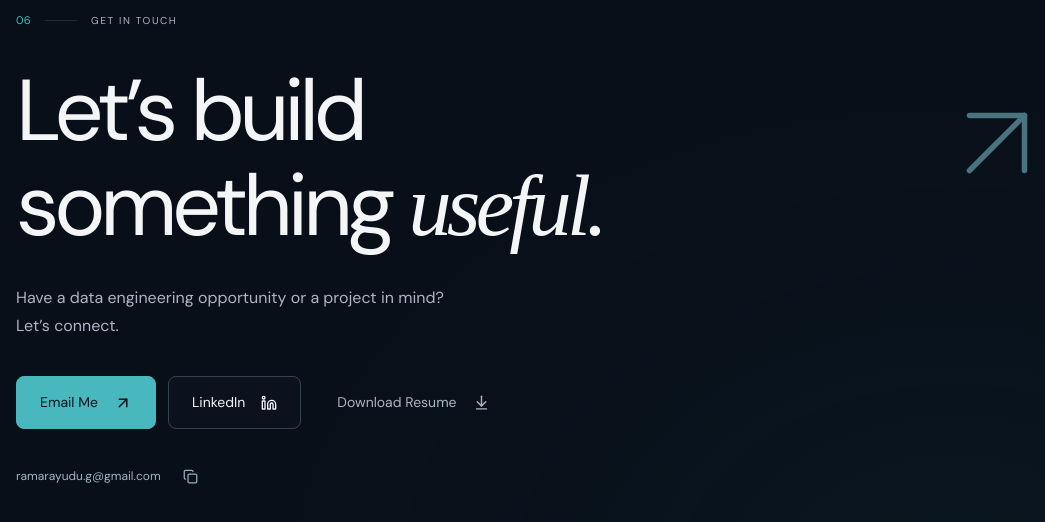
Scenario: direct contact › copies the exact email and displays a confirmed success
Click the button named "Copy email address".
click(191, 476)  # box [169,454,213,498]
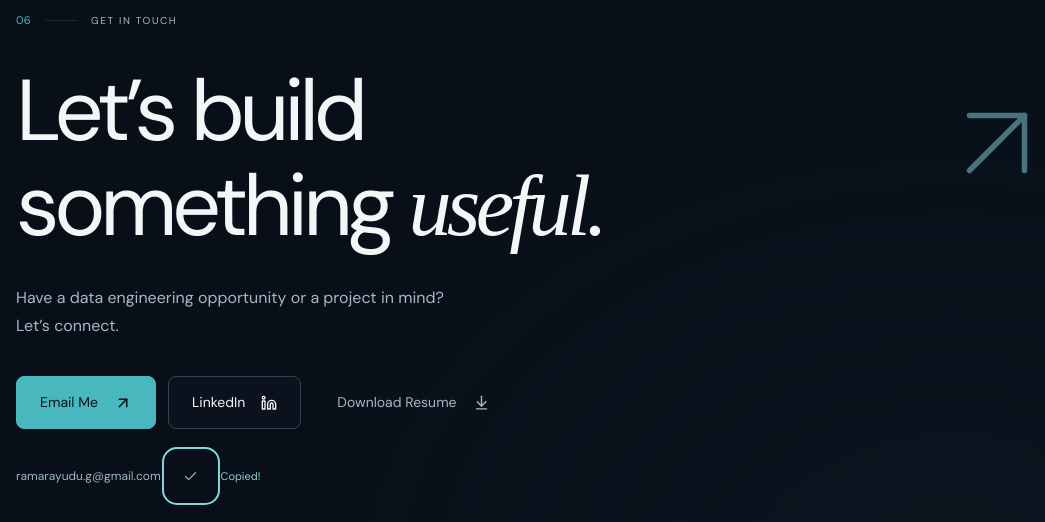
Expected: the message reads "Copied!", [221,469,260,483]
